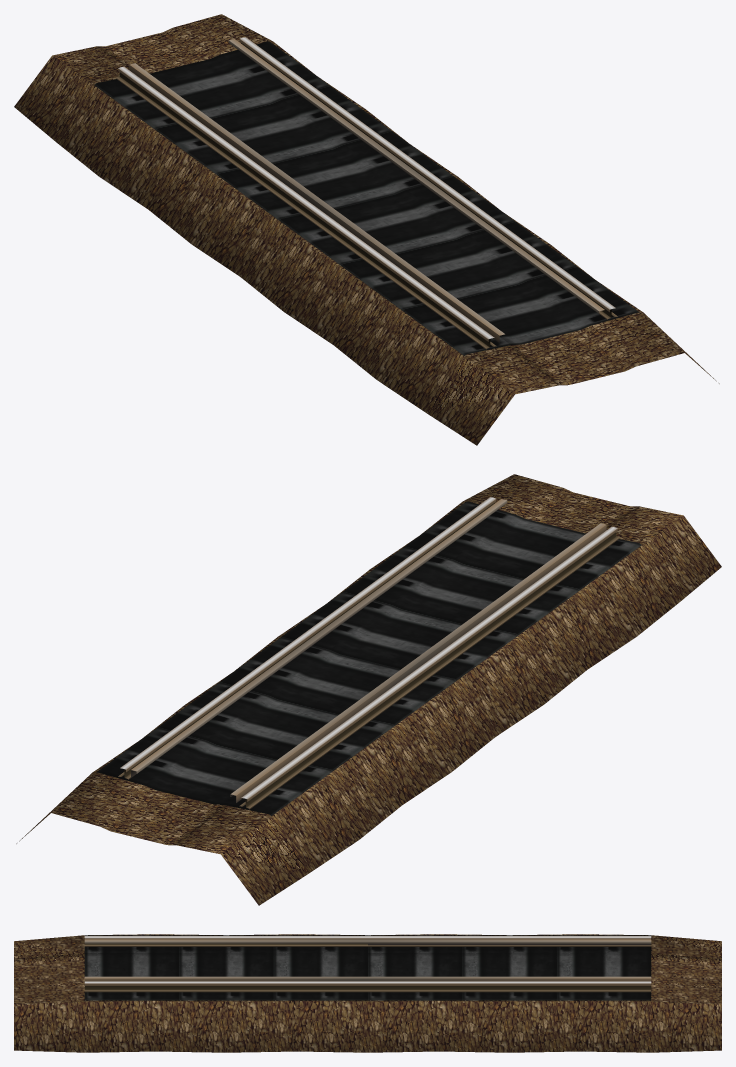
The model's file is HQ_1RAIL_25.glb.
3 views of the same model, one above another, from view 1: azimuth 30°, elevation 25°; view 2: azimuth 150°, elevation 25°; view 3: azimuth 270°, elevation 25° (orthographic). The views are drawn at different scales.
Parts seen in each view (by area): view 1: obj3, R000_RG_R2, R000_RG_L2; view 2: obj3, R000_RG_R2, R000_RG_L2; view 3: obj3, R000_RG_R2, R000_RG_L2.
Boxes of the visible parts, bbox=[...] form: obj3: bbox=[14, 14, 719, 445]; R000_RG_R2: bbox=[129, 63, 504, 342]; R000_RG_L2: bbox=[228, 39, 604, 313]; obj3: bbox=[16, 474, 721, 905]; R000_RG_R2: bbox=[230, 523, 606, 802]; R000_RG_L2: bbox=[131, 499, 507, 777]; obj3: bbox=[14, 934, 721, 1052]; R000_RG_R2: bbox=[84, 939, 651, 945]; R000_RG_L2: bbox=[84, 976, 651, 981].
Size of the model in its own units: 10.07 by 2.21 by 31.25.
Materials: 6 (5 with a texture image).
